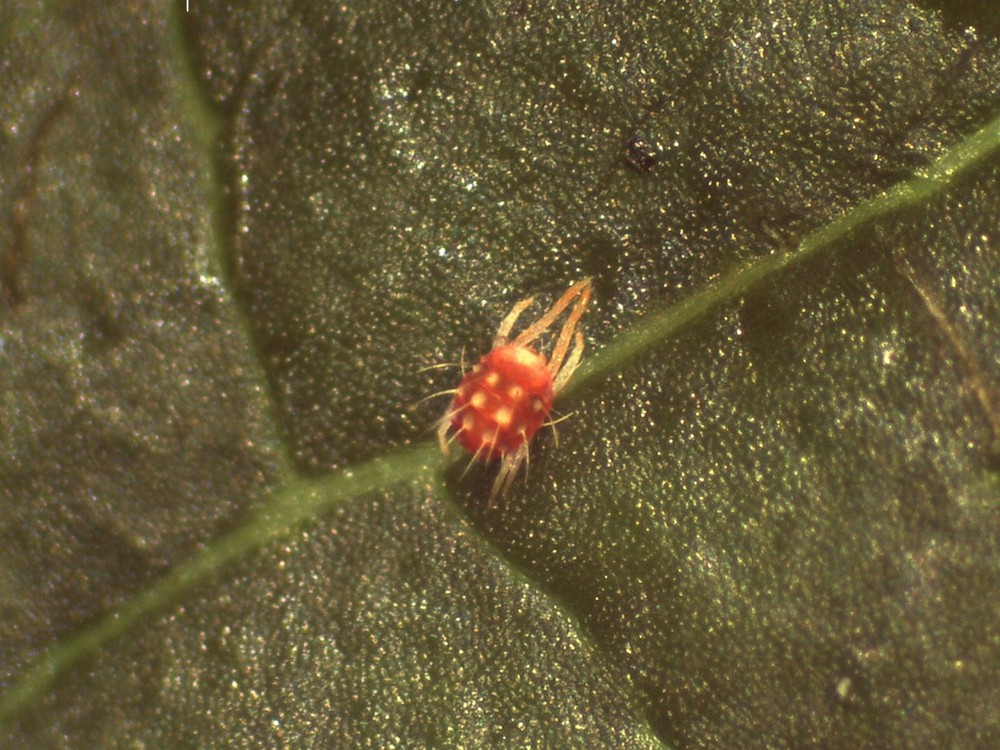Aracnido Rojo: (406, 256, 619, 509)
